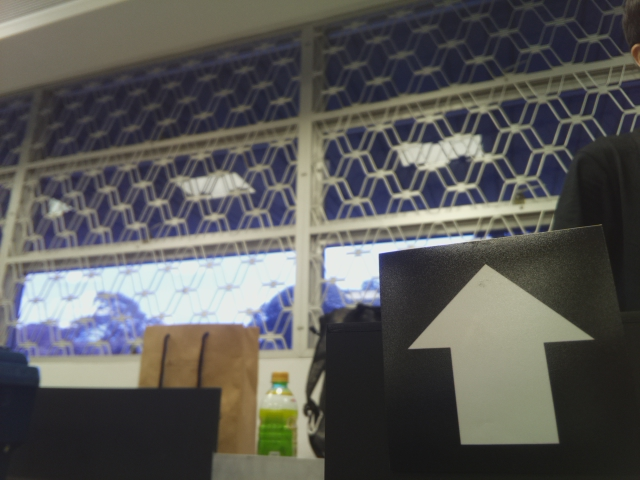up: (393, 248, 604, 452)
